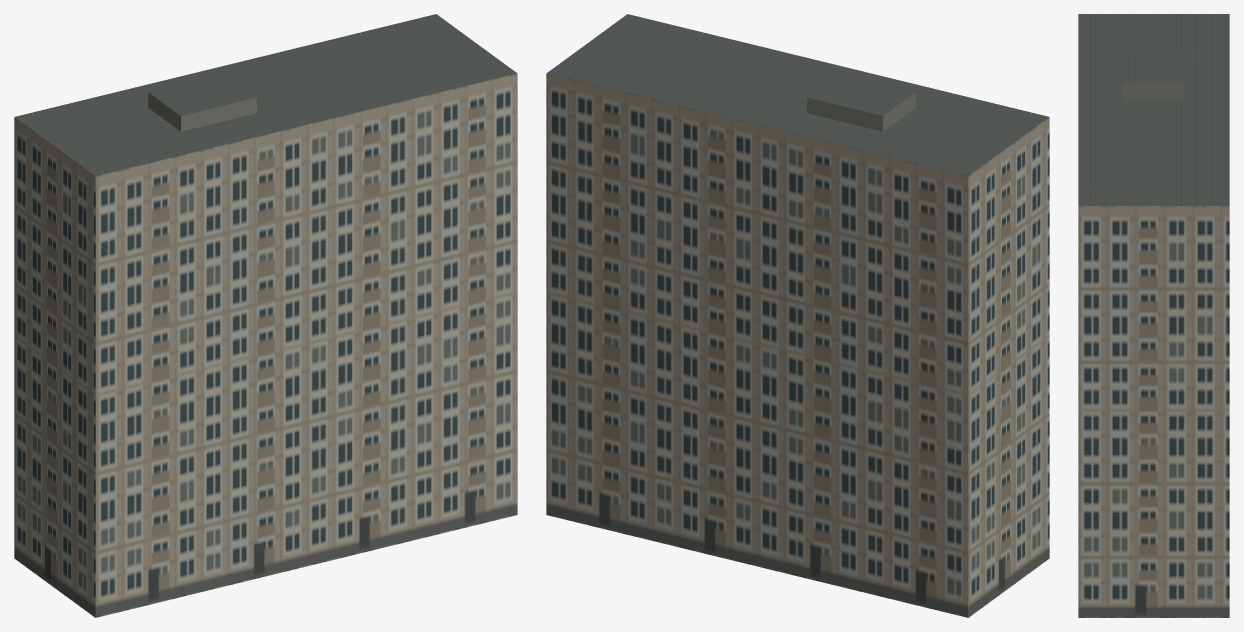
File: kyiv_panel_16_01.obj
The picture shows the model from 3 angles, left to right: view 1: azimuth 30°, elevation 25°; view 2: azimuth 150°, elevation 25°; view 3: azimuth 270°, elevation 25°; orthographic projection. The views are drawn at different scales.
Visible parts, largest first — view 1: kyiv_panel_16_01; view 2: kyiv_panel_16_01; view 3: kyiv_panel_16_01.
Boxes of the visible parts, x1,y1,x2,y2 form: kyiv_panel_16_01: [14, 14, 517, 617]; kyiv_panel_16_01: [546, 14, 1049, 617]; kyiv_panel_16_01: [1078, 14, 1229, 617].
Size of the model in its own units: 48 by 49.7 by 16.
1 material, 1 textured.
